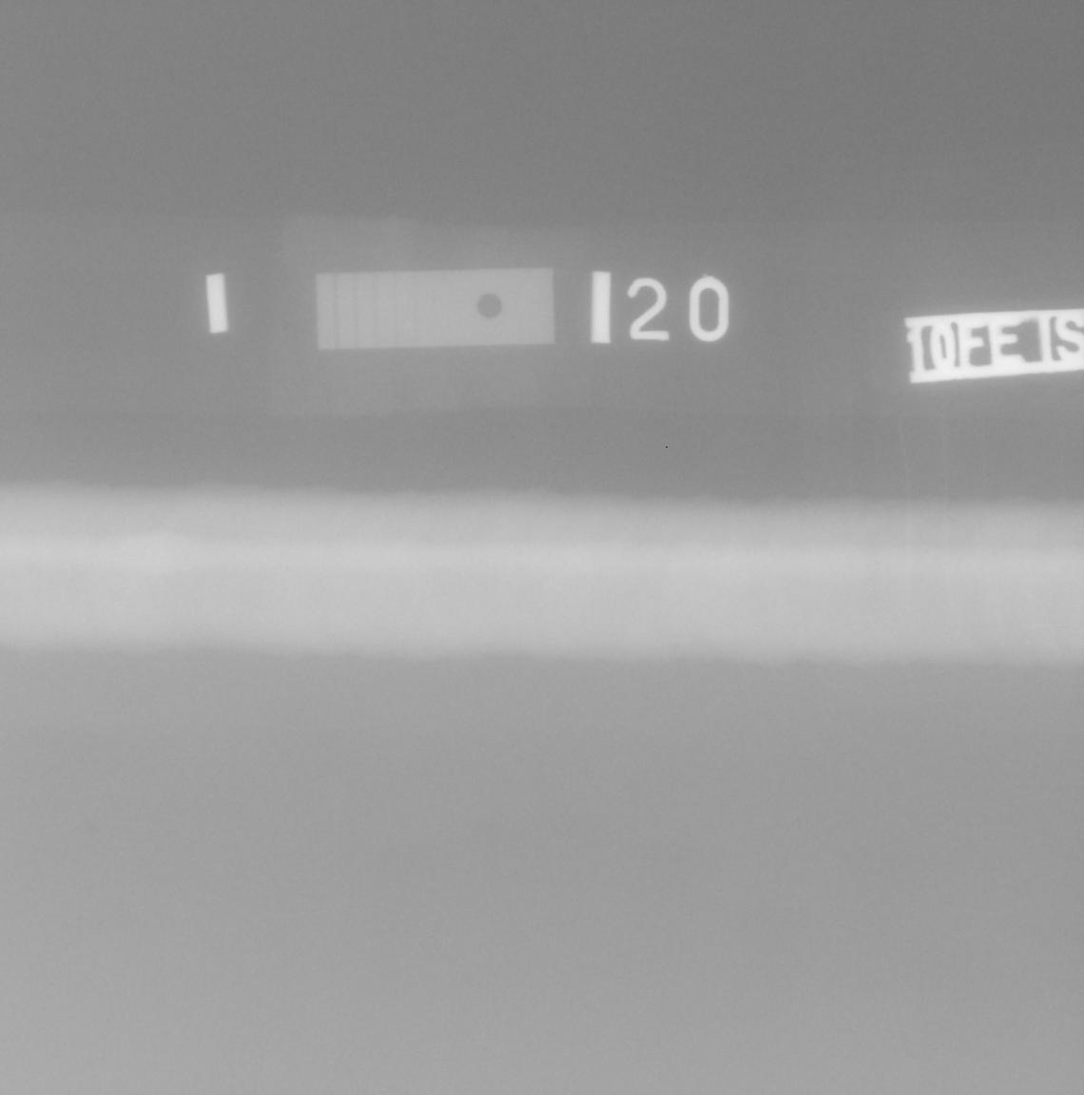Reference Standard 1: (317, 268, 554, 350)
